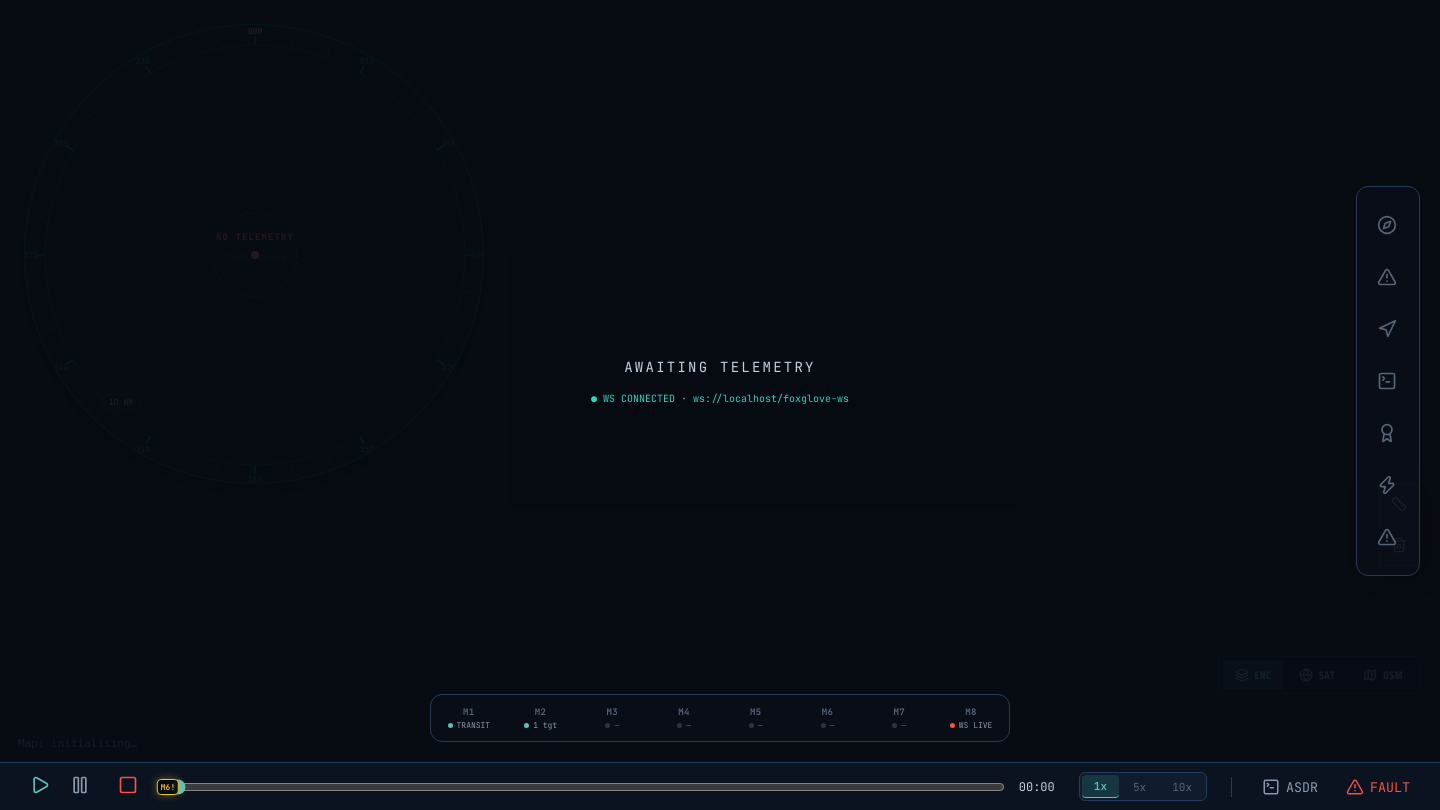
Test: SimulationMonitor › clicking captain tab toggles state and displays content panel
Expected: the text "航行状态" is not shown
Click the button with test id "right-tab-ship" at (1388, 225), box [1366, 203, 1410, 247]
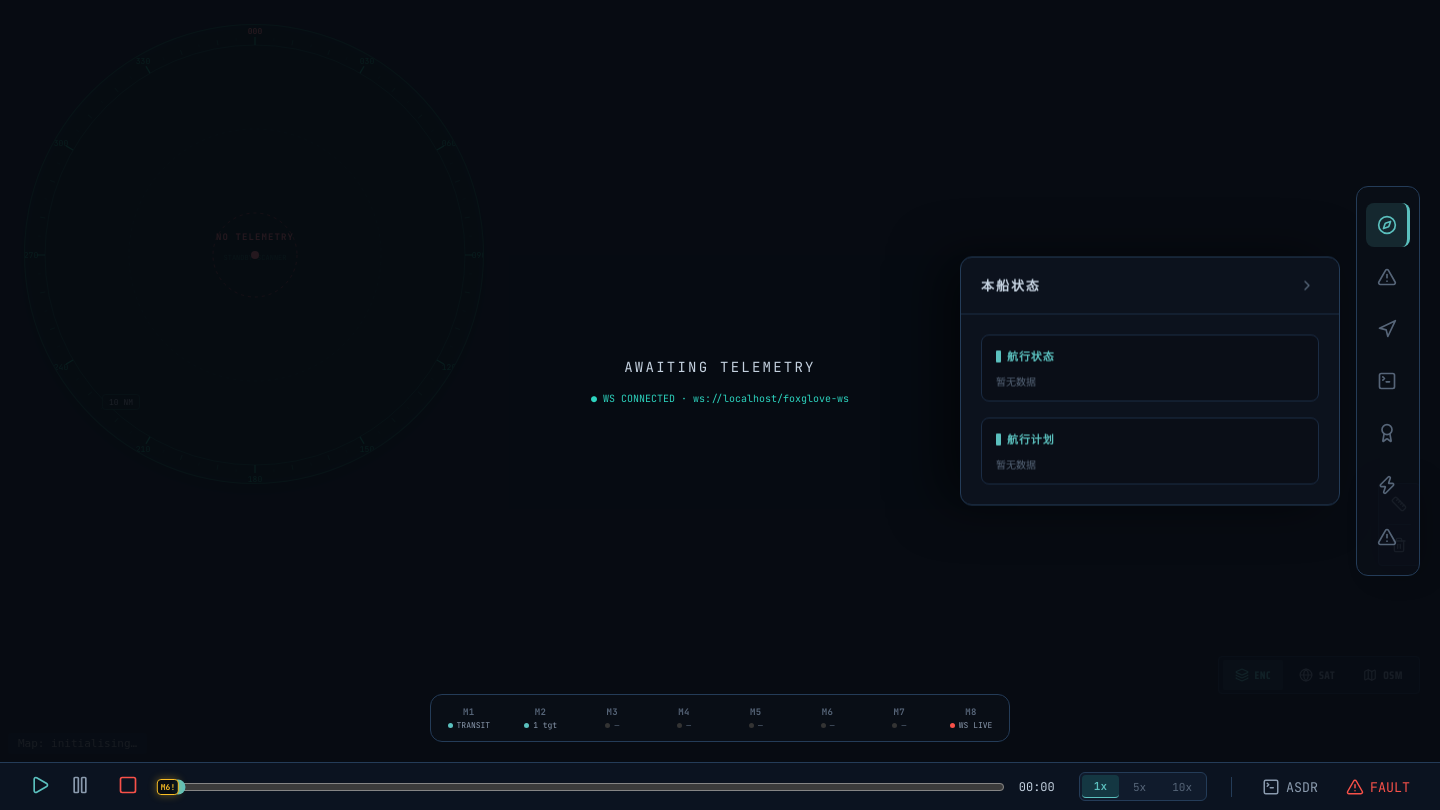
Now the text "航行状态" is shown, box [1007, 348, 1054, 366]
Click the button with test id "right-tab-ship" at (1388, 225), box [1366, 203, 1410, 247]
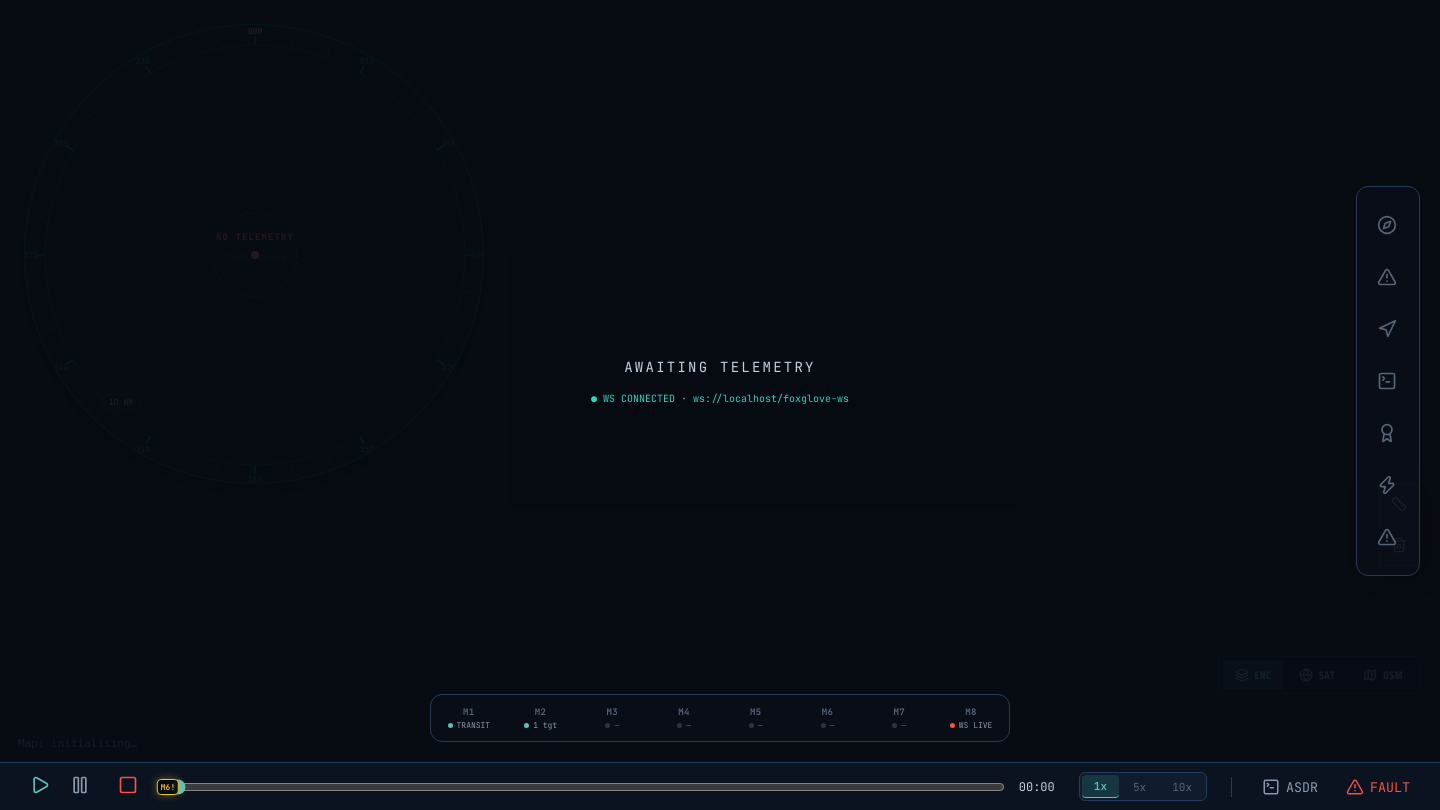
Now the text "航行状态" is gone
